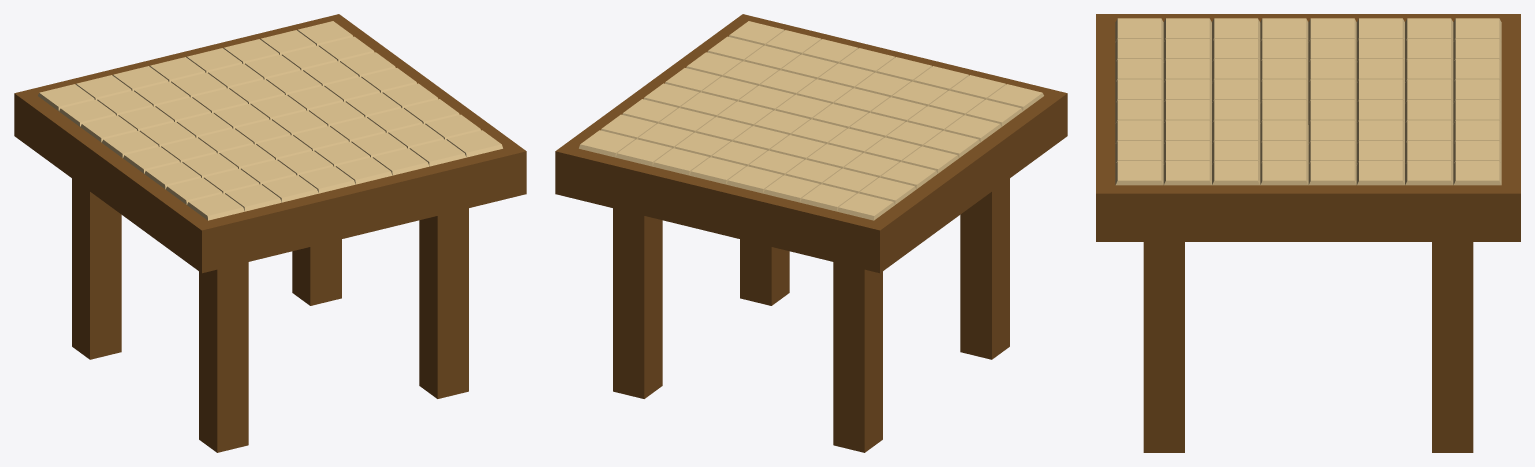
File: meja1_low poly.fbx
3 views of the same model, side by side, from view 1: azimuth 30°, elevation 25°; view 2: azimuth 150°, elevation 25°; view 3: azimuth 270°, elevation 25° (orthographic). The views are drawn at different scales.
Visible parts, largest first — view 1: Cube.020; view 2: Cube.020; view 3: Cube.020.
Boxes of the visible parts, x1,y1,x2,y2 form: Cube.020: [14, 14, 526, 452]; Cube.020: [555, 14, 1067, 452]; Cube.020: [1096, 14, 1520, 452].
Size of the model in its own units: 123 by 123 by 90.58.
